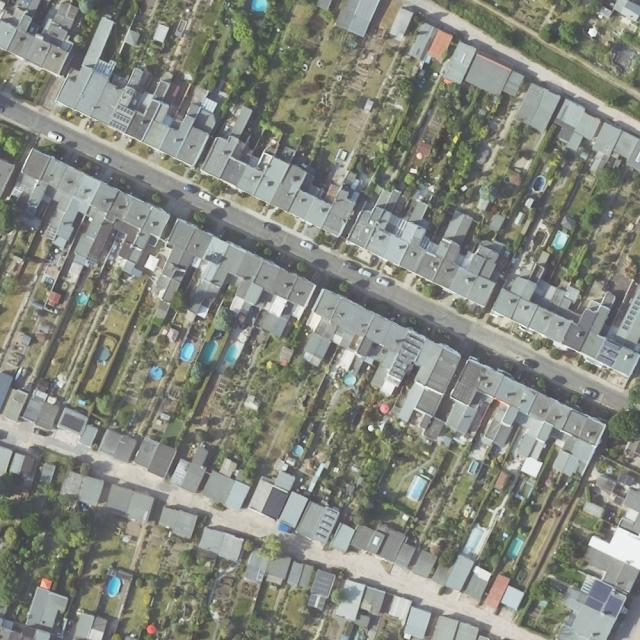PV: (306, 569, 334, 610), (585, 581, 612, 612), (315, 507, 338, 542), (595, 340, 621, 366), (61, 412, 86, 432), (603, 595, 623, 619), (116, 102, 134, 116), (109, 120, 127, 132), (113, 112, 130, 123)
